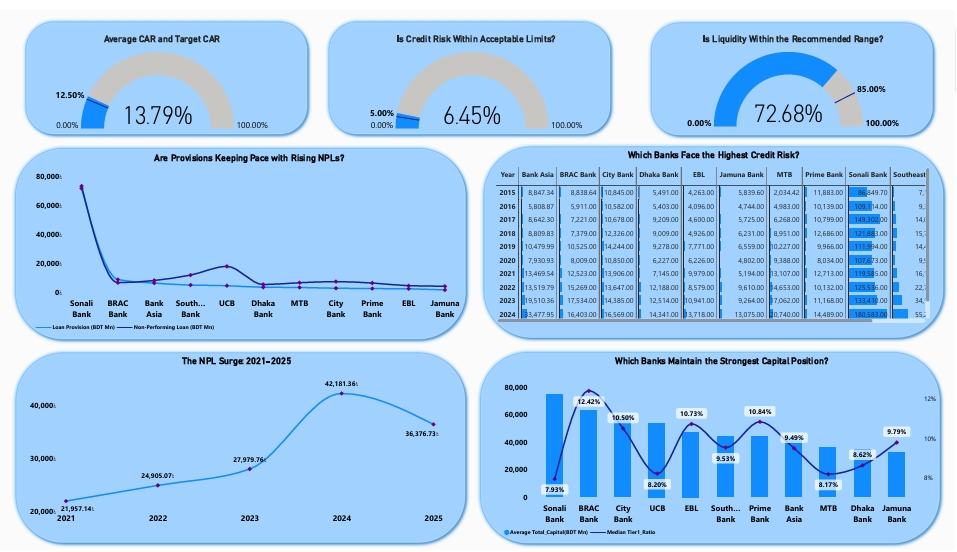

Layout of this report page (visuals, bound fields, positions):
{"tool":"powerbi","page":{"name":"Asset Quality & Capital","canvas":[1920,1080],"ordinal":2},"visuals":[{"type":"gauge","fields":{"TargetValue":["Sum(Target Values.CAR Target)"],"Y":["Avg(Reported_Ratios_cleaned.CAR)"]},"box":[32.5,10,582.5,242.5],"z":0},{"type":"gauge","title":"Is Credit Risk Within Acceptable Limits?","fields":{"TargetValue":["Sum(Target Values.NPL Target)"],"Y":["Avg(Reported_Ratios_cleaned.NPL_Ratio)"]},"box":[670,12.5,582.5,242.5],"z":1000},{"type":"gauge","title":"Is Liquidity Within the Recommended Range?","fields":{"TargetValue":["Avg(Target Values.LDR Target)"],"Y":["Avg(Reported_Ratios_cleaned.LDR)"]},"box":[1302.5,10,582.5,242.5],"z":2000},{"type":"lineChart","title":"Are Provisions Keeping Pace with Rising NPLs?","fields":{"Category":["Bank_Master.Short_Name"],"Y":["Avg(Financials.Loan_Loss_Provision(BDT Mn))"],"Y2":["Avg(Financials.Non-Performing_Loan_Amount(BDT Mn))"]},"box":[30,267.5,917.5,397.5],"z":3000},{"type":"lineChart","title":"The NPL Surge: 2021-2025","fields":{"Category":["Financials.Year"],"Y":["Avg(Financials.Non-Performing_Loan_Amount(BDT Mn))"]},"box":[30,675,917.5,397.5],"z":4000},{"type":"lineStackedColumnComboChart","title":"Which Banks Maintain the Strongest Capital Position?","fields":{"Category":["Bank_Master.Short_Name"],"Y":["Avg(Financials.Total_Capital(BDT Mn))"],"Y2":["Median(Reported_Ratios_cleaned.Tier1_Ratio)"]},"box":[977.5,675,925,397.5],"z":5000},{"type":"pivotTable","title":"Which Banks Face the Highest Credit Risk?","fields":{"Columns":["Bank_Master.Short_Name"],"Rows":["Financials.Year"],"Values":["Target Values.NPL Display"]},"box":[977.5,267.5,925,397.5],"z":6000},{"type":"actionButton","box":[0,0,100,40],"z":7000}]}

Visuals, with their boxes in screenshot pixels (x1, y1, x2, y2), scaled from the page's 1920x1080 canvas onto the 957x552 screenshot:
gauge - Sum(Target Values.CAR Target) x Avg(Reported_Ratios_cleaned.CAR): crop(16, 5, 307, 129)
"Is Credit Risk Within Acceptable Limits?" gauge: crop(334, 6, 624, 130)
"Is Liquidity Within the Recommended Range?" gauge: crop(649, 5, 940, 129)
"Are Provisions Keeping Pace with Rising NPLs?" lineChart: crop(15, 137, 472, 340)
"The NPL Surge: 2021-2025" lineChart: crop(15, 345, 472, 548)
"Which Banks Maintain the Strongest Capital Position?" lineStackedColumnComboChart: crop(487, 345, 948, 548)
"Which Banks Face the Highest Credit Risk?" pivotTable: crop(487, 137, 948, 340)
actionButton: crop(0, 0, 50, 20)
